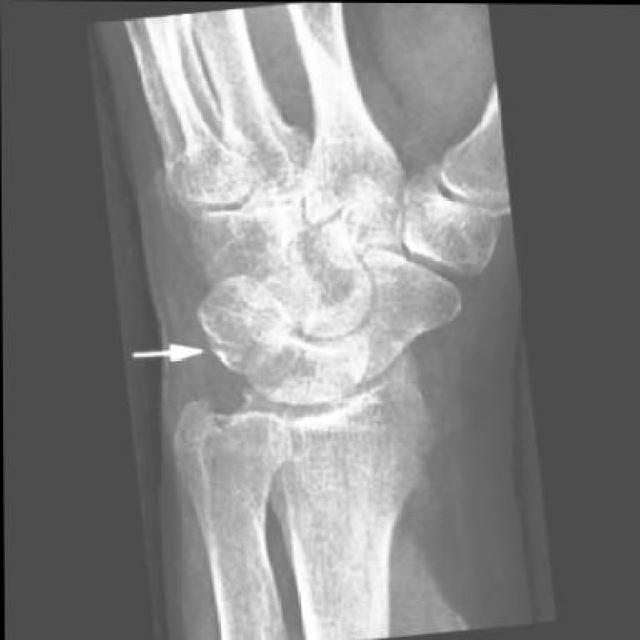Fracture: (205, 322, 266, 378)
